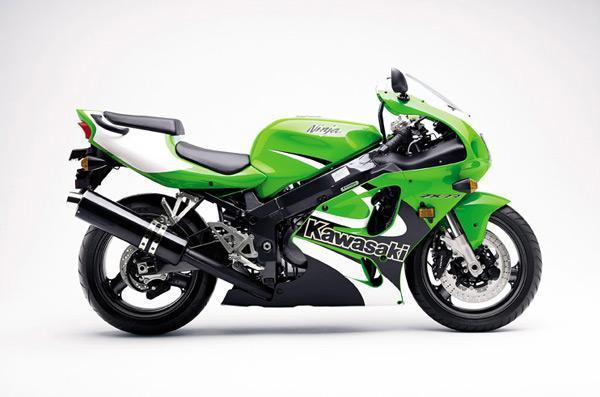motorcycle: (49, 57, 554, 352)
